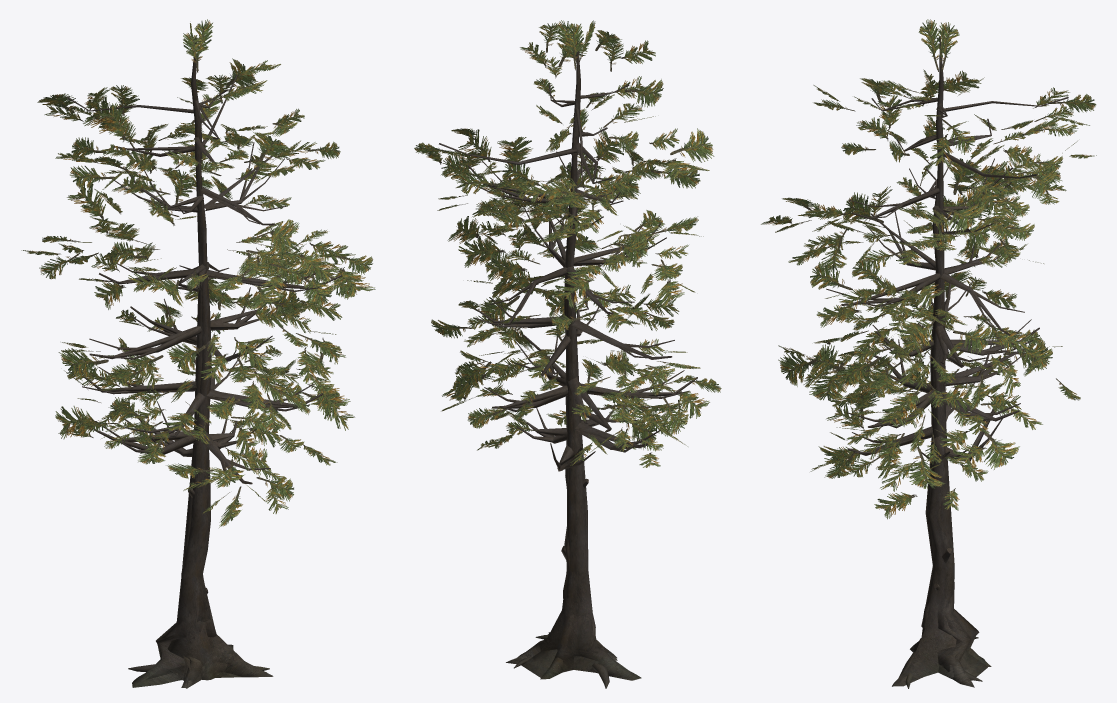
The model's file is pine_mature_refined.glb.
3 views of the same model, side by side, from view 1: azimuth 30°, elevation 25°; view 2: azimuth 150°, elevation 25°; view 3: azimuth 270°, elevation 25° (orthographic).
Visible parts, largest first — view 1: Crown - bent needle sprays, Crown - open whorls, Crown - outer silhouette, Wood - primary boughs, Root spurs, knots and forked boughs, Wood - stem and leader, Stem and continuous root collar; view 2: Crown - bent needle sprays, Crown - open whorls, Crown - outer silhouette, Root spurs, knots and forked boughs, Wood - primary boughs, Wood - stem and leader, Stem and continuous root collar; view 3: Crown - bent needle sprays, Crown - open whorls, Crown - outer silhouette, Root spurs, knots and forked boughs, Stem and continuous root collar, Wood - primary boughs, Wood - stem and leader.
Boxes of the visible parts, x1,y1,x2,y2 form: Crown - bent needle sprays: [28, 19, 371, 525]; Crown - open whorls: [23, 22, 372, 526]; Crown - outer silhouette: [21, 58, 375, 527]; Wood - primary boughs: [89, 38, 340, 688]; Root spurs, knots and forked boughs: [66, 38, 342, 672]; Wood - stem and leader: [91, 157, 330, 677]; Stem and continuous root collar: [132, 159, 272, 687]; Crown - bent needle sprays: [415, 20, 720, 467]; Crown - open whorls: [414, 20, 720, 467]; Crown - outer silhouette: [414, 30, 721, 454]; Root spurs, knots and forked boughs: [439, 44, 697, 688]; Wood - primary boughs: [479, 41, 670, 672]; Wood - stem and leader: [474, 132, 663, 677]; Stem and continuous root collar: [506, 136, 641, 680]; Crown - bent needle sprays: [763, 19, 1095, 515]; Crown - open whorls: [763, 21, 1095, 516]; Crown - outer silhouette: [761, 70, 1096, 519]; Root spurs, knots and forked boughs: [826, 37, 1068, 688]; Stem and continuous root collar: [892, 164, 991, 687]; Wood - primary boughs: [841, 37, 1039, 680]; Wood - stem and leader: [847, 147, 1016, 686].
Size of the model in its own units: 3.28 by 7 by 3.44.
Materials: 3 (3 with a texture image).
